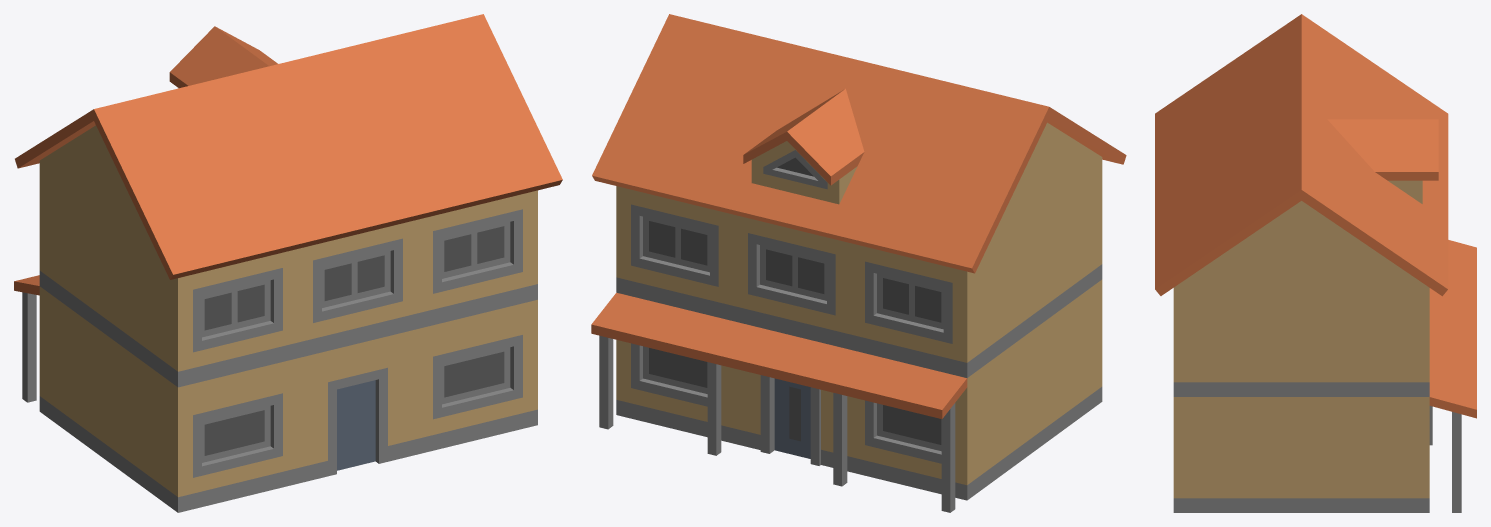
The model's file is SM_Suburb_House_011.fbx.
The picture shows the model from 3 angles, left to right: view 1: azimuth 30°, elevation 25°; view 2: azimuth 150°, elevation 25°; view 3: azimuth 270°, elevation 25°; orthographic projection. The views are drawn at different scales.
Parts seen in each view (by area): view 1: SM_Suburb_House_011; view 2: SM_Suburb_House_011; view 3: SM_Suburb_House_011.
Boxes of the visible parts, x1,y1,x2,y2 form: SM_Suburb_House_011: (14, 14, 562, 512); SM_Suburb_House_011: (591, 14, 1126, 512); SM_Suburb_House_011: (1155, 14, 1476, 512).
Size of the model in its own units: 936 by 819 by 724.
